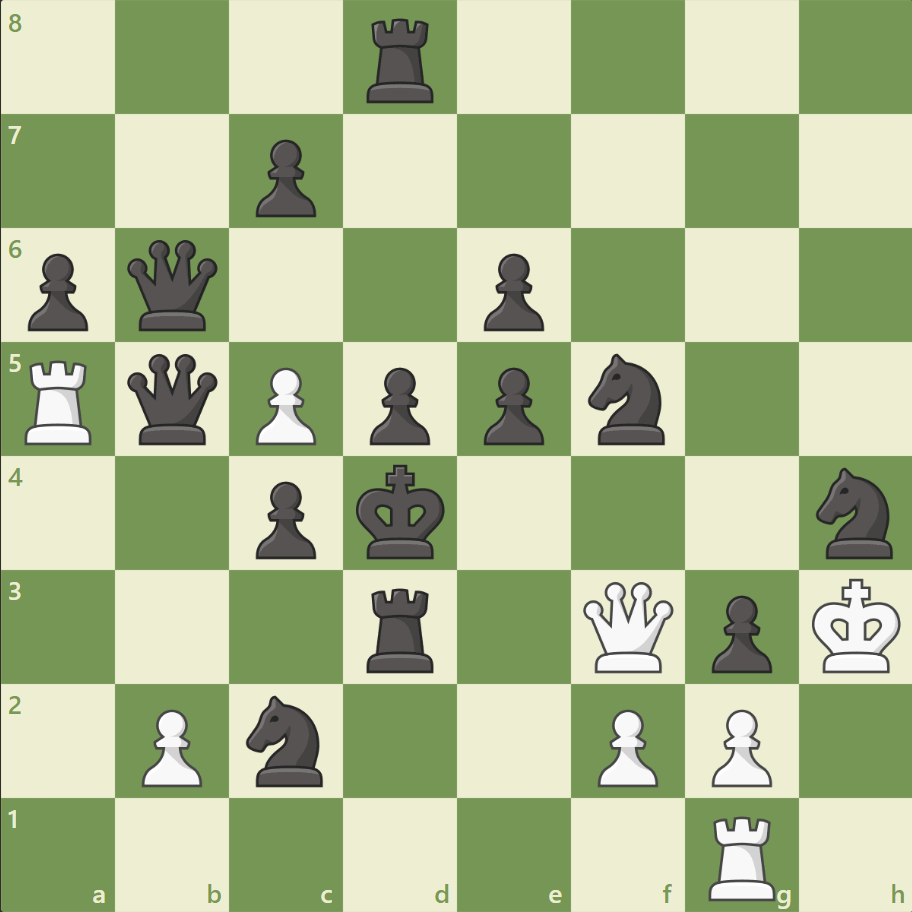K: (806, 571, 906, 679)
P: (247, 359, 322, 450), (133, 700, 208, 791), (701, 700, 776, 791), (588, 700, 662, 791)
Q: (578, 576, 677, 676)
R: (700, 806, 783, 904), (19, 352, 102, 449)
k: (351, 458, 451, 566)
n: (806, 461, 903, 564), (238, 688, 335, 791), (579, 348, 676, 450)
p: (247, 132, 322, 223), (20, 246, 95, 337), (474, 246, 549, 337), (474, 359, 549, 450), (247, 473, 322, 564), (701, 586, 776, 677), (361, 359, 435, 450)
q: (124, 349, 223, 449), (124, 236, 223, 335)
r: (360, 12, 442, 109), (360, 579, 442, 676)
